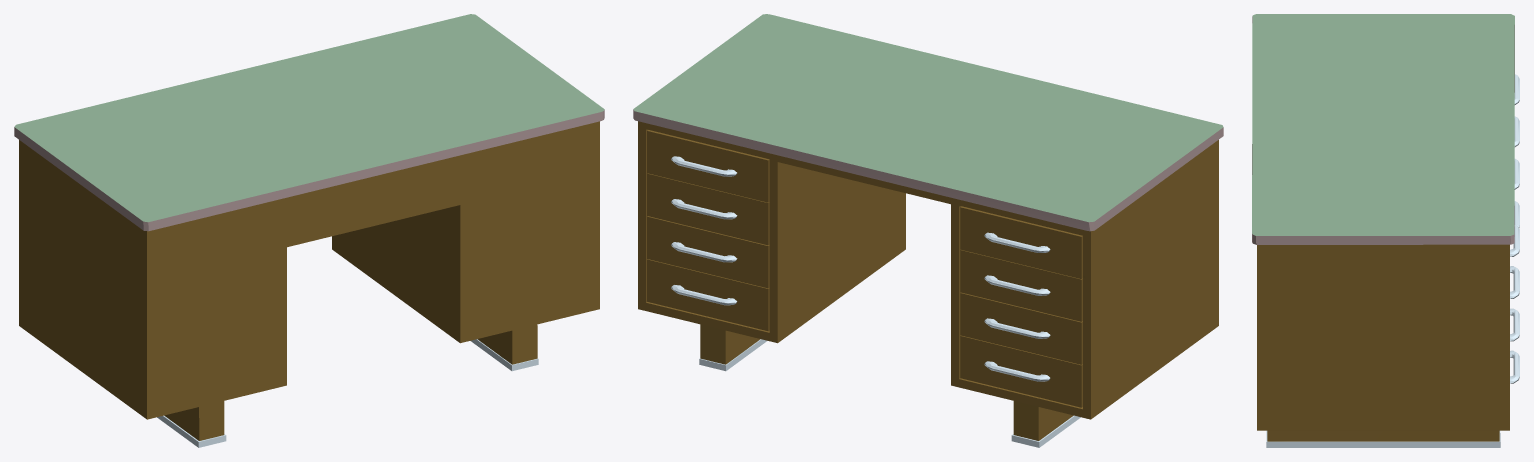
The model's file is Retro_Office_Desk.fbx.
The picture shows the model from 3 angles, left to right: view 1: azimuth 30°, elevation 25°; view 2: azimuth 150°, elevation 25°; view 3: azimuth 270°, elevation 25°; orthographic projection.
Parts seen in each view (by area): view 1: Retro_Office_Desk; view 2: Retro_Office_Desk, Retro_Office_Drawer.004, Retro_Office_Drawer.007, Retro_Office_Drawer.006, Retro_Office_Drawer.002, Retro_Office_Drawer.008, Retro_Office_Drawer.003, Retro_Office_Drawer.005, Retro_Office_Drawer.001; view 3: Retro_Office_Desk.
Boxes of the visible parts, x1,y1,x2,y2 form: Retro_Office_Desk: [14, 14, 604, 447]; Retro_Office_Desk: [633, 14, 1223, 447]; Retro_Office_Drawer.004: [960, 206, 1082, 278]; Retro_Office_Drawer.007: [647, 130, 769, 202]; Retro_Office_Drawer.006: [960, 292, 1082, 364]; Retro_Office_Drawer.002: [647, 216, 769, 288]; Retro_Office_Drawer.008: [960, 335, 1082, 407]; Retro_Office_Drawer.003: [647, 259, 769, 331]; Retro_Office_Drawer.005: [960, 250, 1082, 321]; Retro_Office_Drawer.001: [647, 173, 769, 245]; Retro_Office_Desk: [1252, 14, 1514, 447].
Bounding box in the file's own units: 160 × 81 × 81.53.
